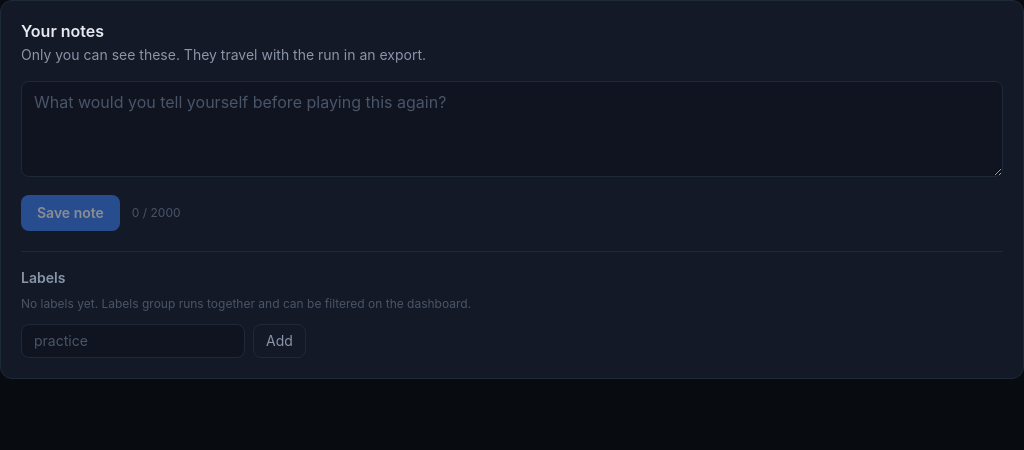
Test case: RunAnnotations — the note › reports a failure and keeps what was typed
Type "Attempt" into the text box named "Notes on this run" at {"x": 512, "y": 129}, box x1=21 y1=81 x2=1003 y2=177
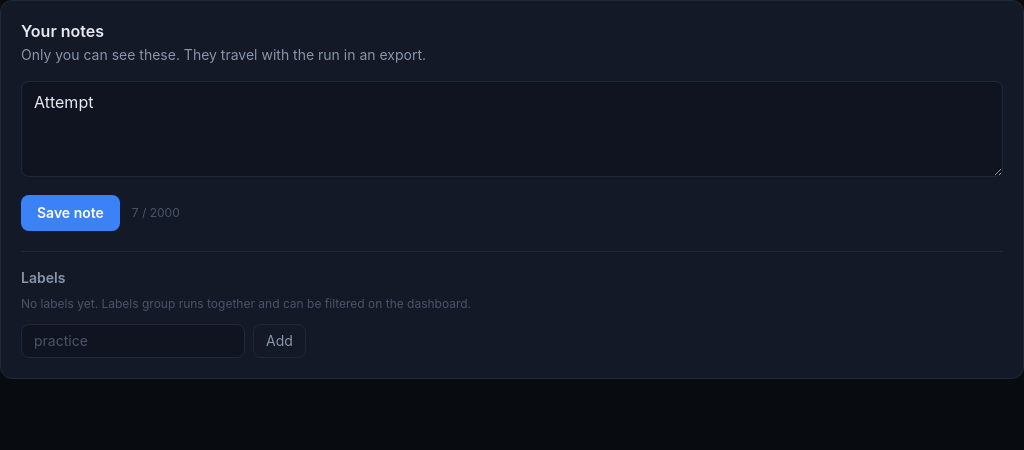
Click the button "Save note" at {"x": 70, "y": 213}, box x1=21 y1=195 x2=120 y2=231
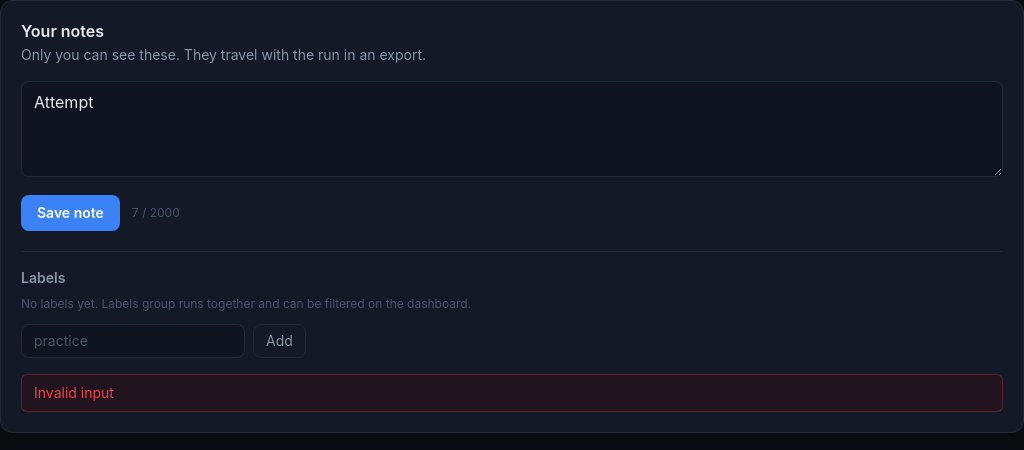
Expected: the text "Invalid input" is shown, x1=21 y1=374 x2=1003 y2=412
